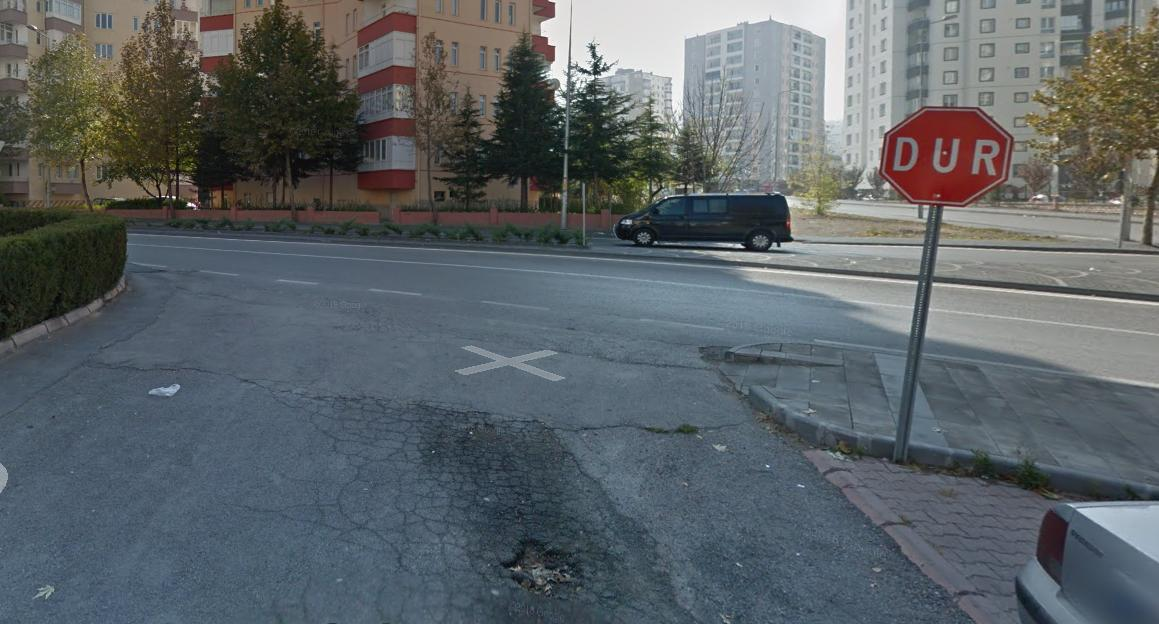stop: (879, 107, 1012, 206)
